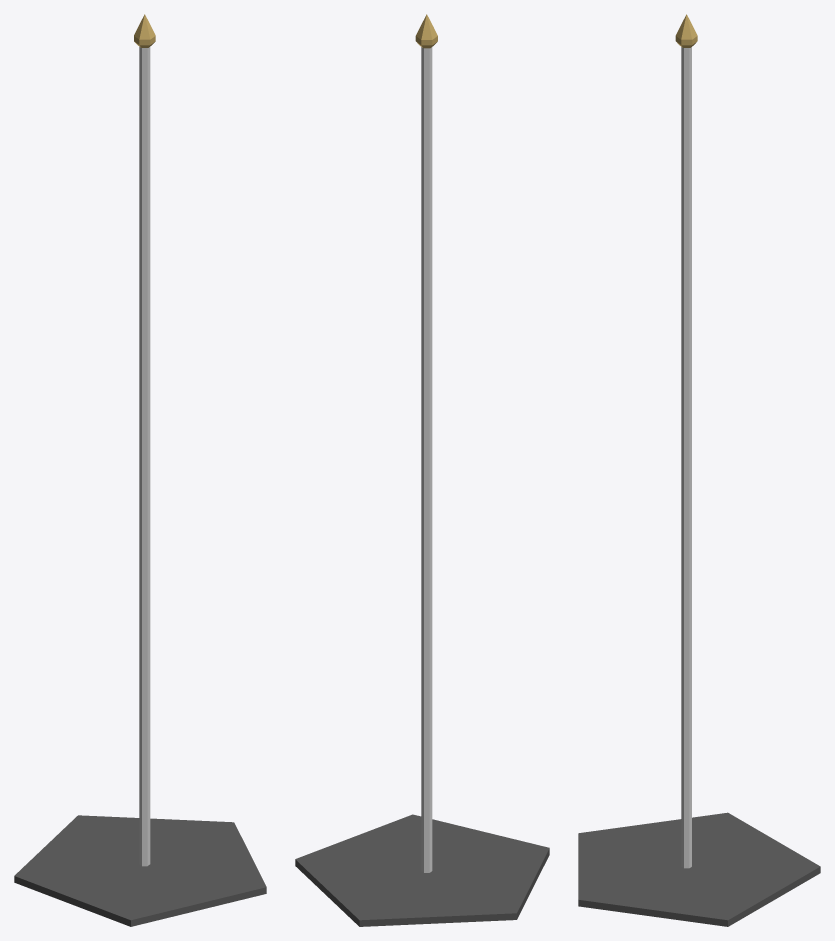
The model's file is P_B_Flag Pole .fbx.
3 views of the same model, side by side, from view 1: azimuth 30°, elevation 25°; view 2: azimuth 150°, elevation 25°; view 3: azimuth 270°, elevation 25° (orthographic).
Parts seen in each view (by area): view 1: B_Flag_Pole; view 2: B_Flag_Pole; view 3: B_Flag_Pole.
Part boxes in pixels (left/top/right/bottom): B_Flag_Pole: left=14, top=14, right=266, bottom=926; B_Flag_Pole: left=295, top=14, right=549, bottom=926; B_Flag_Pole: left=578, top=14, right=820, bottom=926.
Bounding box in the file's own units: 593 × 2206 × 564.
